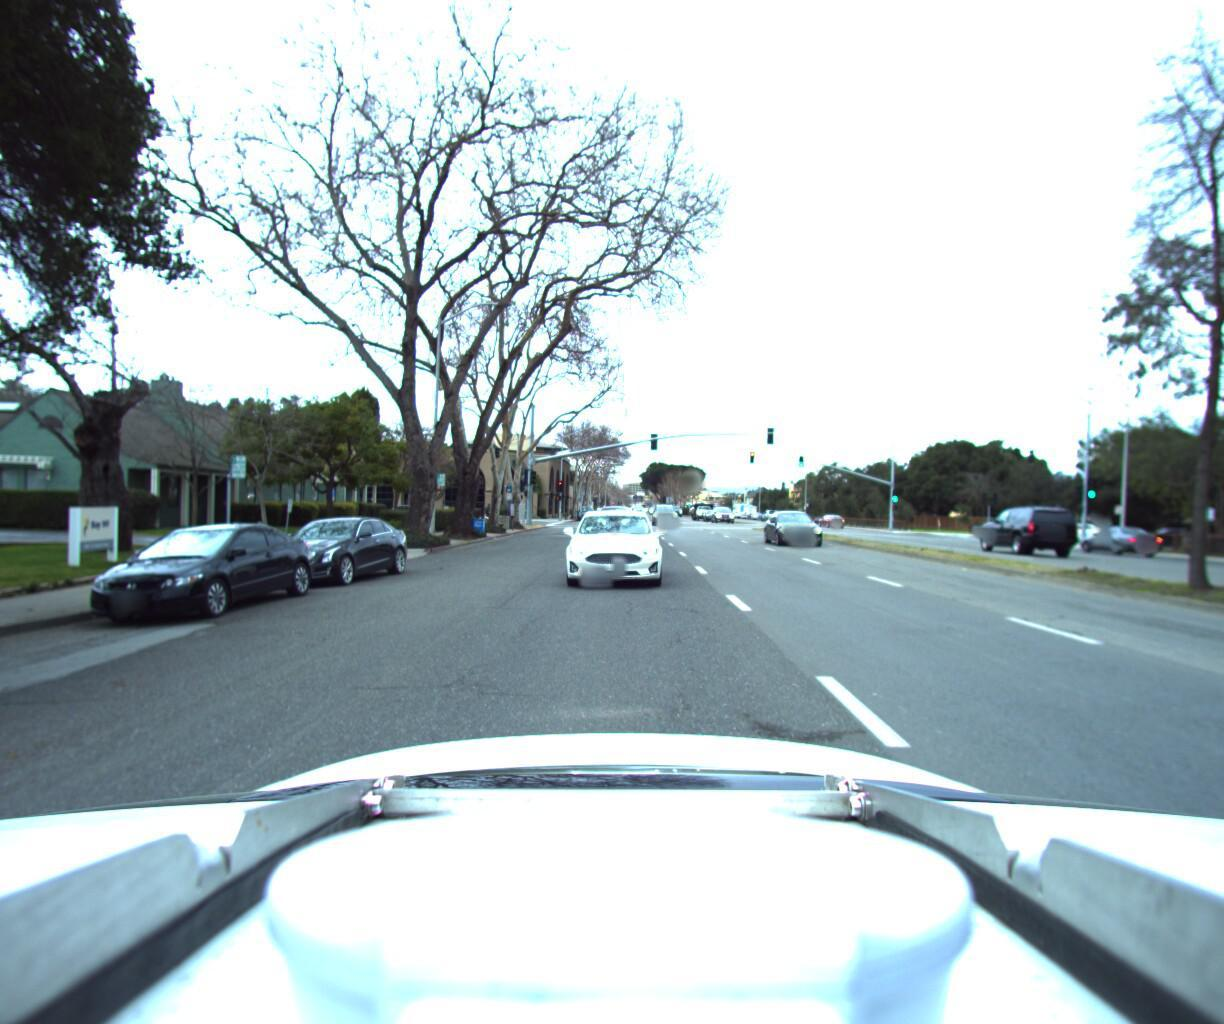car: (60, 513, 323, 630), (251, 506, 420, 589), (558, 501, 667, 597), (960, 498, 1065, 551), (1070, 515, 1163, 550), (764, 504, 835, 547), (1184, 506, 1224, 576), (1041, 514, 1110, 534), (651, 496, 679, 519), (710, 497, 736, 516)
